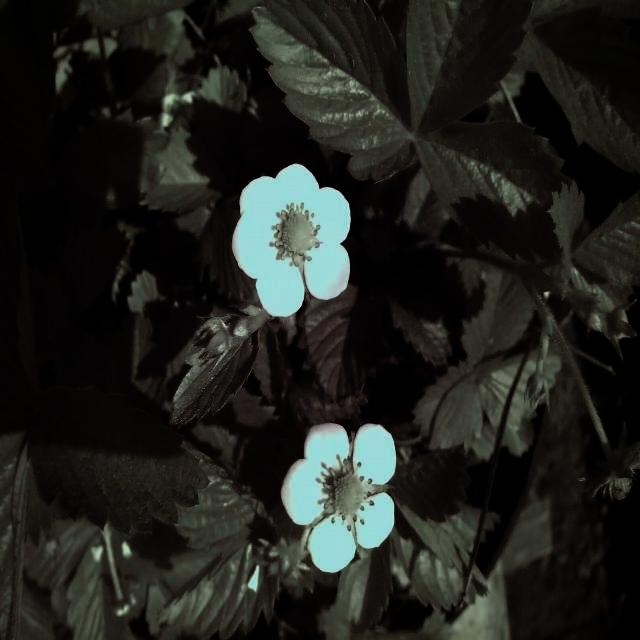flower: (229, 156, 357, 322), (280, 422, 402, 572)
